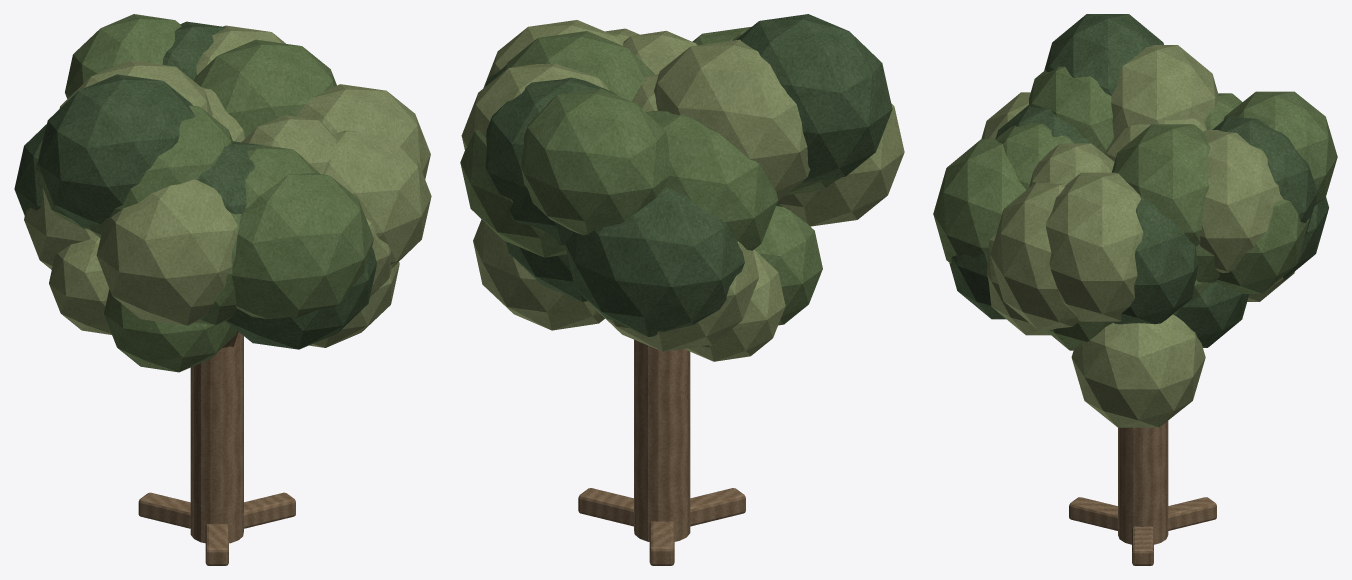
The model's file is NAT_TREE_OAK_1x1_002.glb.
3 renders of one model, left to right at view 1: azimuth 30°, elevation 25°; view 2: azimuth 150°, elevation 25°; view 3: azimuth 270°, elevation 25°, orthographic. The views are drawn at different scales.
Parts seen in each view (by area): view 1: NAT_TREE_OAK_1x1_002_Visual; view 2: NAT_TREE_OAK_1x1_002_Visual; view 3: NAT_TREE_OAK_1x1_002_Visual.
Boxes of the visible parts, left/top/right/bottom form: NAT_TREE_OAK_1x1_002_Visual: left=14, top=14, right=431, bottom=565; NAT_TREE_OAK_1x1_002_Visual: left=460, top=14, right=904, bottom=565; NAT_TREE_OAK_1x1_002_Visual: left=933, top=14, right=1337, bottom=565.
Size of what is drawn, in the model's own units: 1.19 by 1.53 by 1.21.
4 materials, 4 textured.
